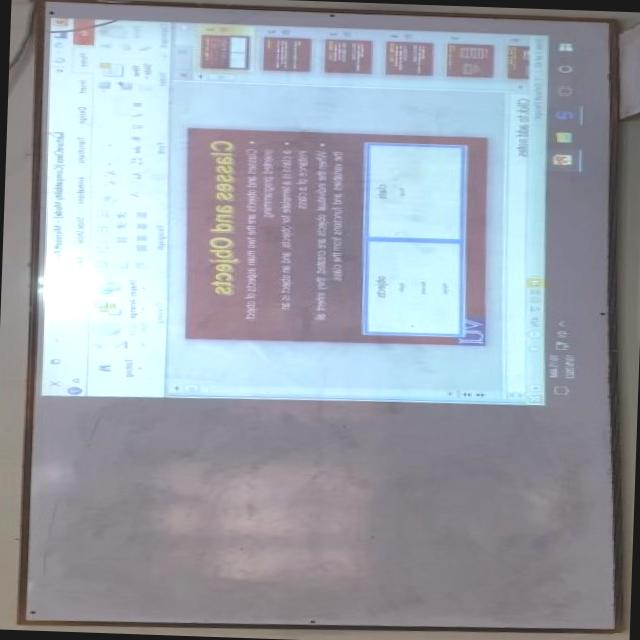Slide: (40, 16, 593, 404)
White-board: (20, 0, 624, 630)
